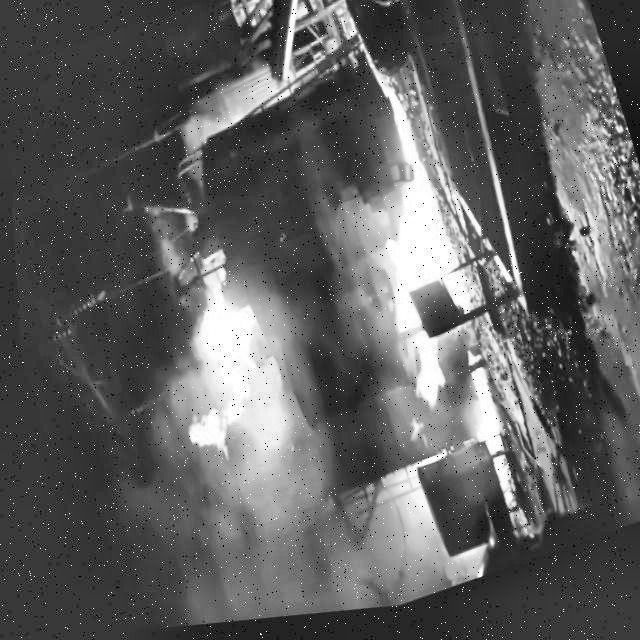Fire: (322, 86, 492, 426)
Smoke: (49, 172, 498, 637)
